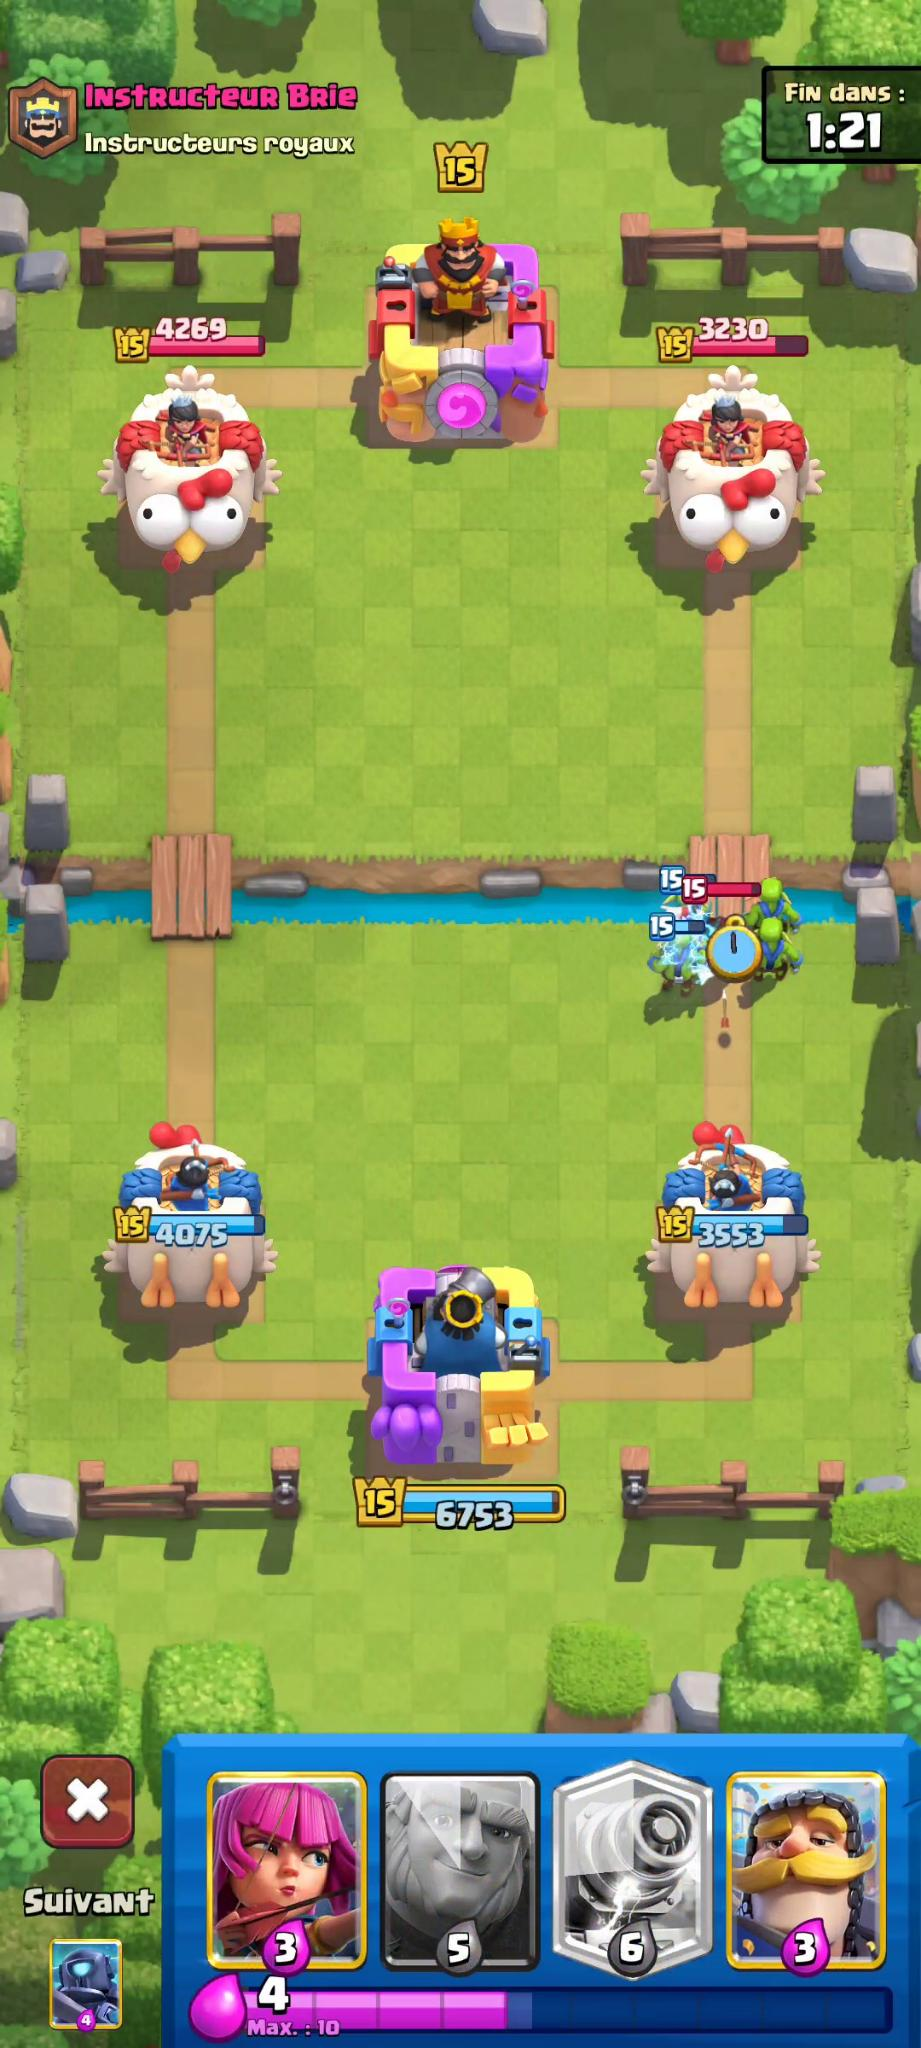gobelin: (747, 920, 807, 993), (644, 933, 709, 999), (652, 859, 713, 930), (746, 867, 813, 927)
